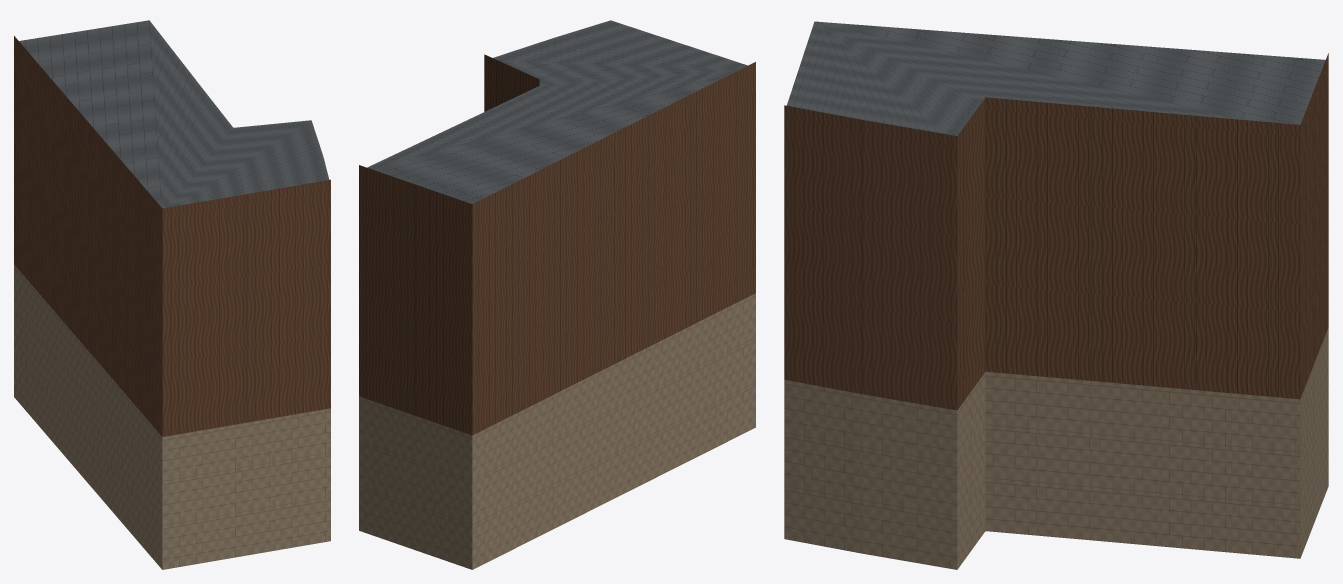
The model's file is bld_c-11_35_476.gltf.
3 views of the same model, side by side, from view 1: azimuth 30°, elevation 25°; view 2: azimuth 150°, elevation 25°; view 3: azimuth 270°, elevation 25° (orthographic). The views are drawn at different scales.
Parts seen in each view (by area): view 1: bld_c-11_35_476; view 2: bld_c-11_35_476; view 3: bld_c-11_35_476.
Part boxes in pixels (x1,y1,x2,y2): bld_c-11_35_476: (14,20,330,569); bld_c-11_35_476: (359,20,755,569); bld_c-11_35_476: (784,21,1328,569).
Size of the model in its own units: 8.38 by 13.88 by 15.78.
Materials: 4 (4 with a texture image).
